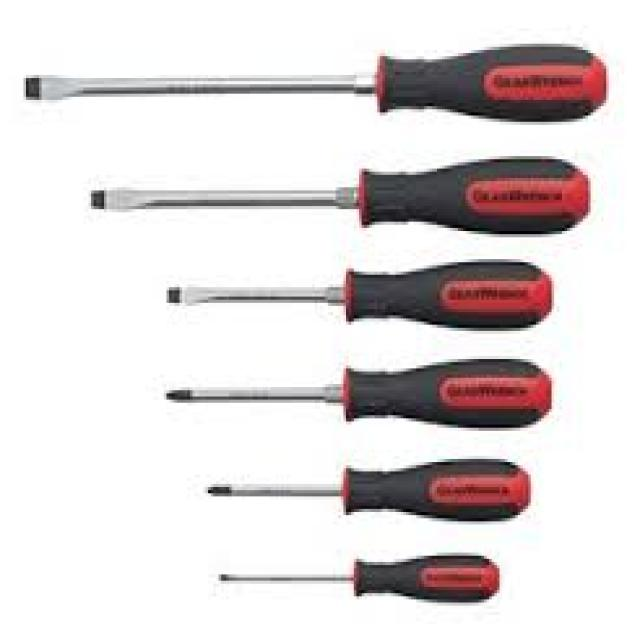screw driver: (4, 36, 615, 133), (67, 153, 610, 254), (139, 249, 565, 348), (149, 347, 560, 433), (196, 438, 542, 532), (214, 530, 508, 625)
